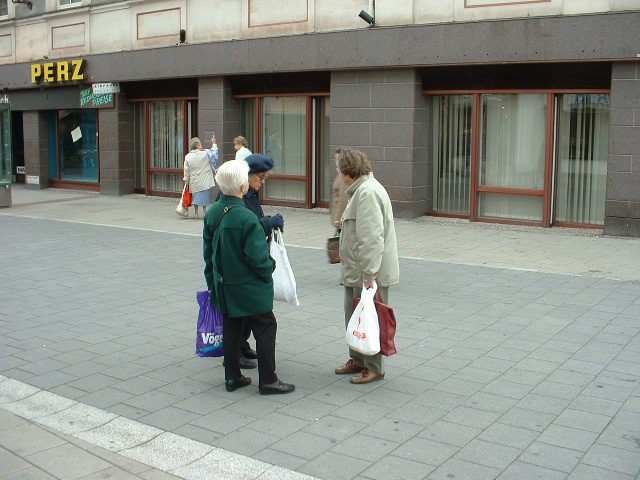person: (190, 160, 296, 395), (324, 147, 404, 385), (180, 137, 215, 216)
